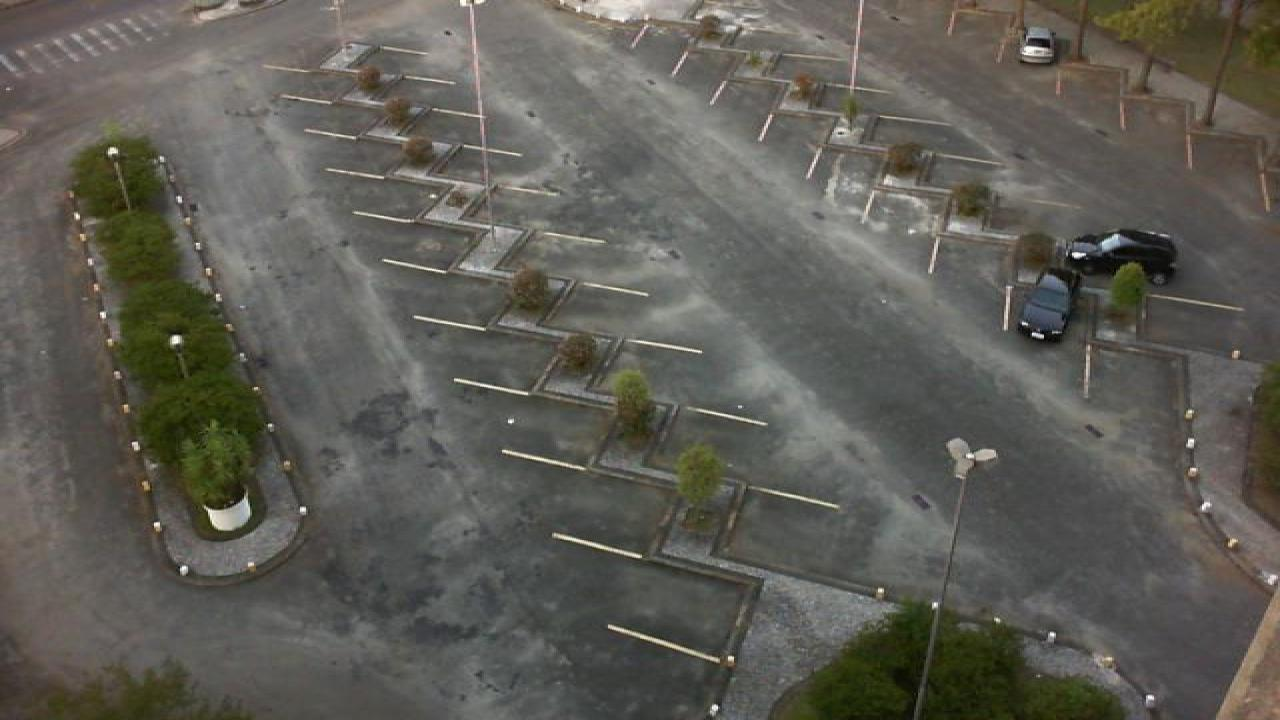Car: (1058, 227, 1178, 286), (1016, 270, 1078, 342), (1018, 26, 1058, 64)
